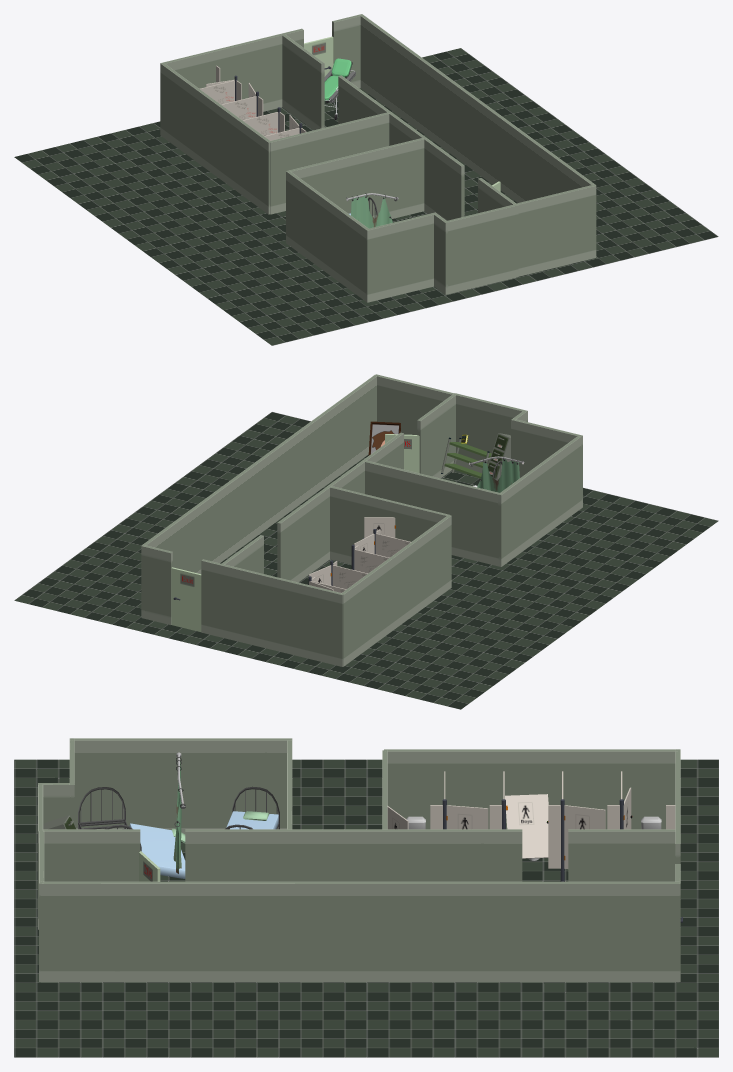
The model's file is level_kapoet.FBX.
The picture shows the model from 3 angles, top to bottom: view 1: azimuth 30°, elevation 25°; view 2: azimuth 150°, elevation 25°; view 3: azimuth 270°, elevation 25°; orthographic projection. The views are drawn at different scales.
Visible parts, largest first — view 1: Plane002, Box219, Box221, Box210, Box207, Box218, Box204, Box205, Box302, Box220, Box209, Box224 (+9 smaller); view 2: Plane002, Box219, Box302, Box221, Box210, Box207, Box209, Box220, Box204, Box218, Box208, Box304 (+12 smaller); view 3: Plane002, Box219, Box209, Box207, Box221, Box224, Box208, Box289, MATRAS009, Box287, Box206, Box286 (+7 smaller).
Boxes of the visible parts, <box> form: Plane002: <box>14,48,718,345</box>; Box219: <box>359,14,595,202</box>; Box221: <box>161,63,270,214</box>; Box210: <box>289,138,426,218</box>; Box207: <box>286,170,369,300</box>; Box218: <box>516,184,596,276</box>; Box204: <box>447,204,517,294</box>; Box205: <box>365,212,436,302</box>; Box302: <box>160,28,303,135</box>; Box220: <box>269,112,389,214</box>; Box209: <box>338,75,464,220</box>; Box224: <box>281,33,324,130</box>; Plane002: <box>14,412,718,709</box>; Box219: <box>141,374,377,617</box>; Box302: <box>201,559,343,666</box>; Box221: <box>341,515,451,666</box>; Box210: <box>363,460,501,566</box>; Box207: <box>498,436,580,566</box>; Box209: <box>277,432,403,582</box>; Box220: <box>329,485,450,564</box>; Box204: <box>454,393,524,473</box>; Box218: <box>375,374,454,434</box>; Box208: <box>417,393,456,478</box>; Box304: <box>141,545,172,624</box>; Plane002: <box>14,759,718,1057</box>; Box219: <box>40,881,679,982</box>; Box209: <box>185,829,522,881</box>; Box207: <box>70,738,292,833</box>; Box221: <box>384,749,677,829</box>; Box224: <box>568,829,675,881</box>; Box208: <box>38,829,140,929</box>; Box289: <box>505,794,548,858</box>; MATRAS009: <box>129,823,185,878</box>; Box287: <box>548,771,564,881</box>; Box206: <box>38,783,74,824</box>; Box286: <box>564,805,605,868</box>.
Bounding box in the file's own units: 700 × 113 × 700.
23 materials, 8 textured.
